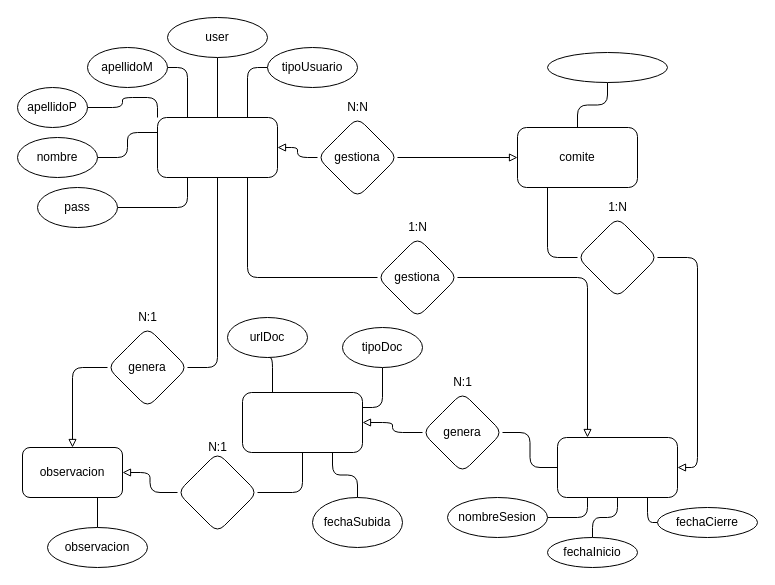
Image size: 775x585. Some labels were removed from this diagram. Here are the shapes that lost their labels. From the top down, the centre of each, then its label:
pixel 607 67: nombreComite
pixel 217 147: usuario
pixel 617 257: realiza
pixel 302 422: documento
pixel 617 467: sesionComite
pixel 217 492: Tiene
